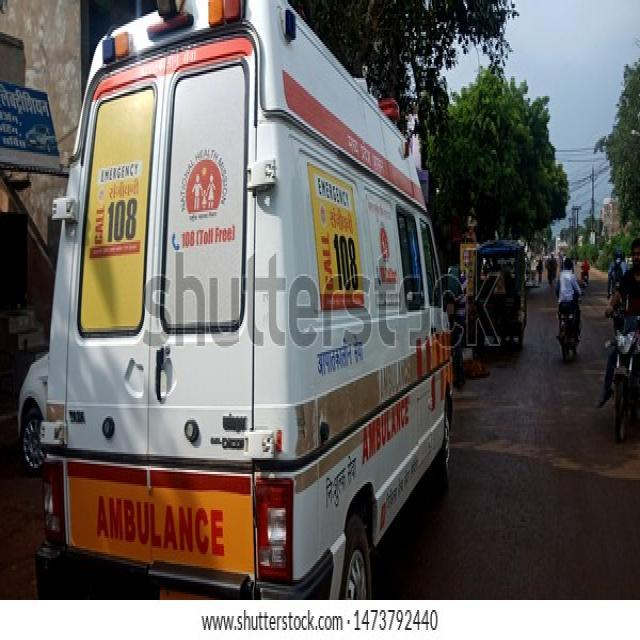ambulance: (39, 10, 460, 603)
